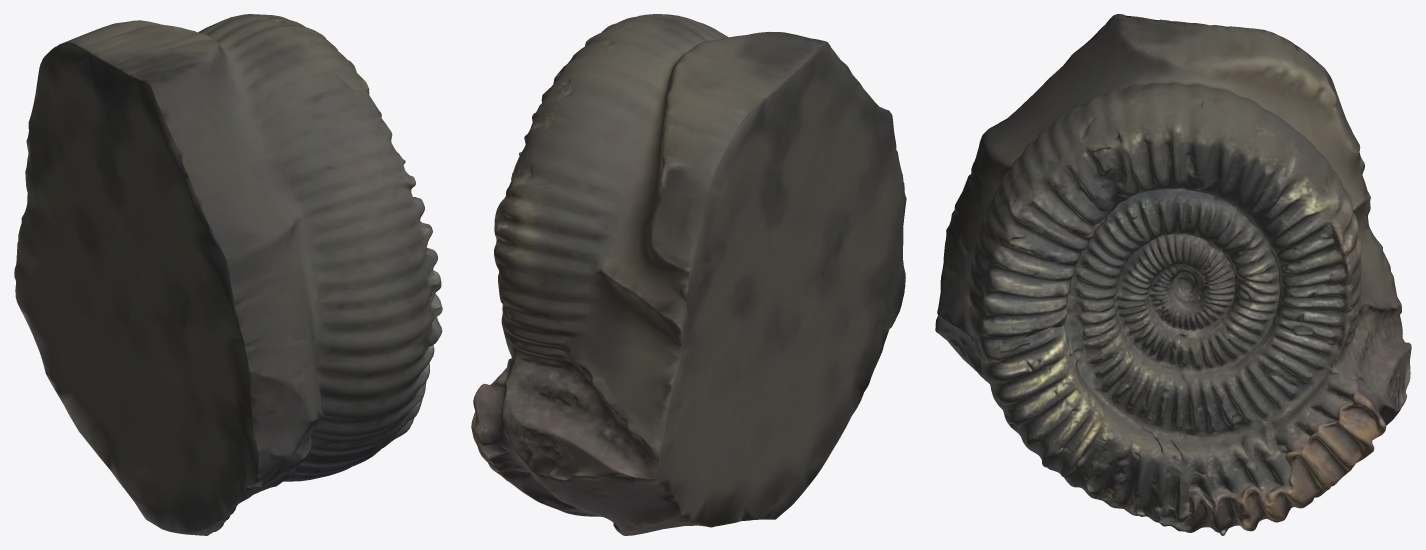
The model's file is uk-ammonite.glb.
3 views of the same model, side by side, from view 1: azimuth 30°, elevation 25°; view 2: azimuth 150°, elevation 25°; view 3: azimuth 270°, elevation 25° (orthographic). The views are drawn at different scales.
Visible parts, largest first — view 1: tripo_node_c2fc531f-c813-4f99-9ddb-355c9547ffa6; view 2: tripo_node_c2fc531f-c813-4f99-9ddb-355c9547ffa6; view 3: tripo_node_c2fc531f-c813-4f99-9ddb-355c9547ffa6.
Boxes of the visible parts, left/top/right/bottom form: tripo_node_c2fc531f-c813-4f99-9ddb-355c9547ffa6: left=14, top=14, right=442, bottom=535; tripo_node_c2fc531f-c813-4f99-9ddb-355c9547ffa6: left=471, top=14, right=906, bottom=535; tripo_node_c2fc531f-c813-4f99-9ddb-355c9547ffa6: left=935, top=14, right=1411, bottom=535.
Bounding box in the file's own units: 0.5425 × 0.9999 × 0.9742.
1 material, 1 textured.
